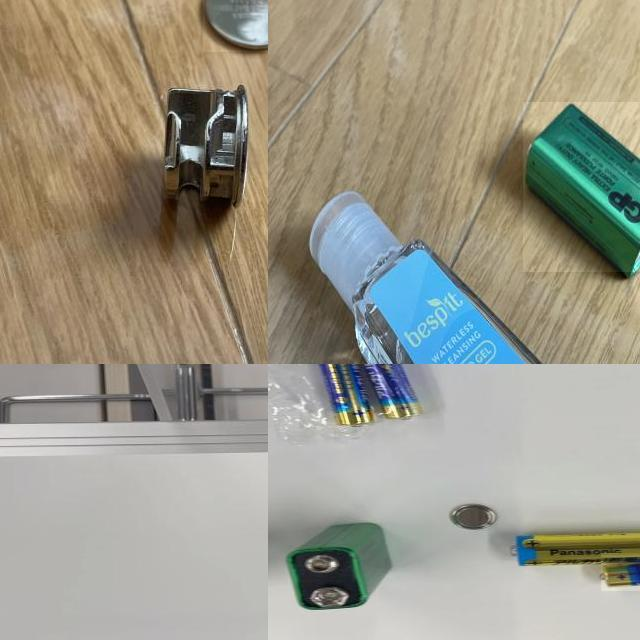9V: (523, 101, 640, 272), (286, 523, 394, 610)
